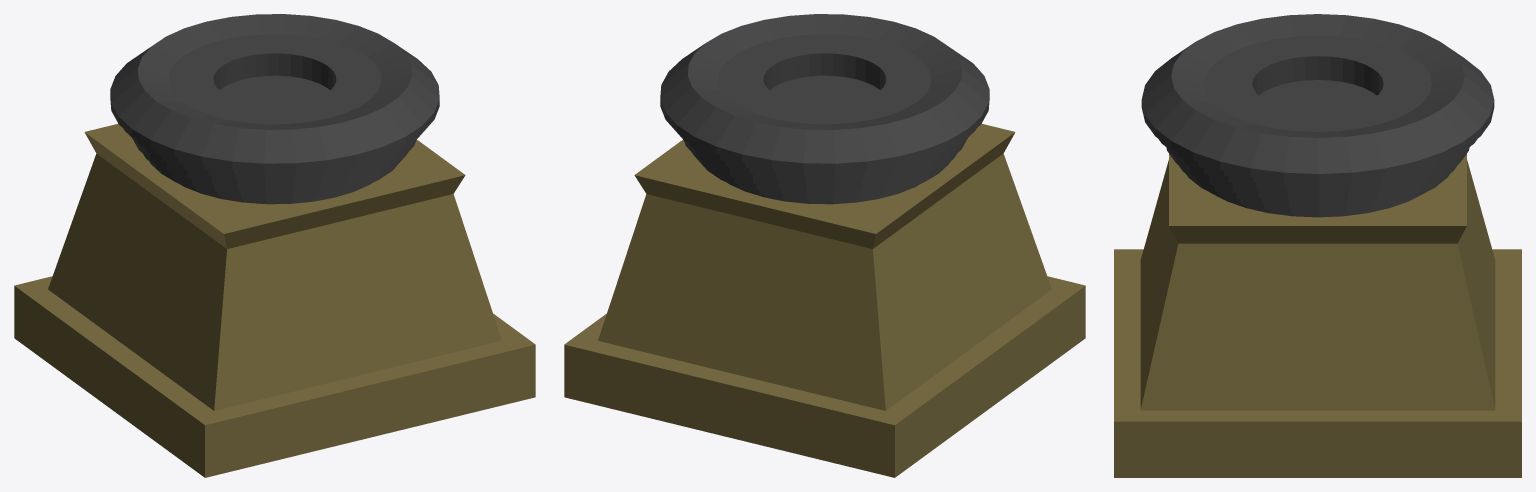
File: FirePlace.fbx
3 renders of one model, left to right at view 1: azimuth 30°, elevation 25°; view 2: azimuth 150°, elevation 25°; view 3: azimuth 270°, elevation 25°, orthographic. The views are drawn at different scales.
Parts seen in each view (by area): view 1: Cube; view 2: Cube; view 3: Cube.
Part boxes in pixels (x1,y1,x2,y2): Cube: [14, 14, 535, 477]; Cube: [564, 14, 1085, 477]; Cube: [1114, 14, 1521, 477].
Size of the model in its own units: 200 by 171 by 200.
